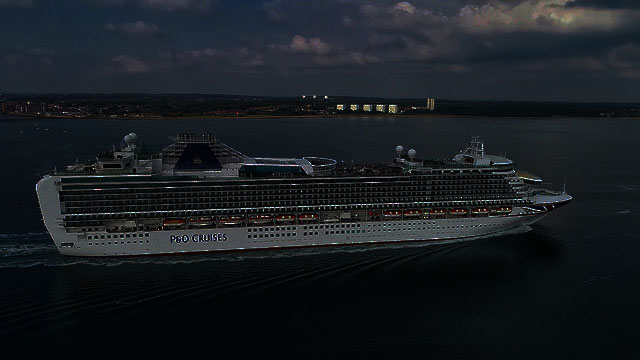cruise_ship: (31, 129, 579, 250)
